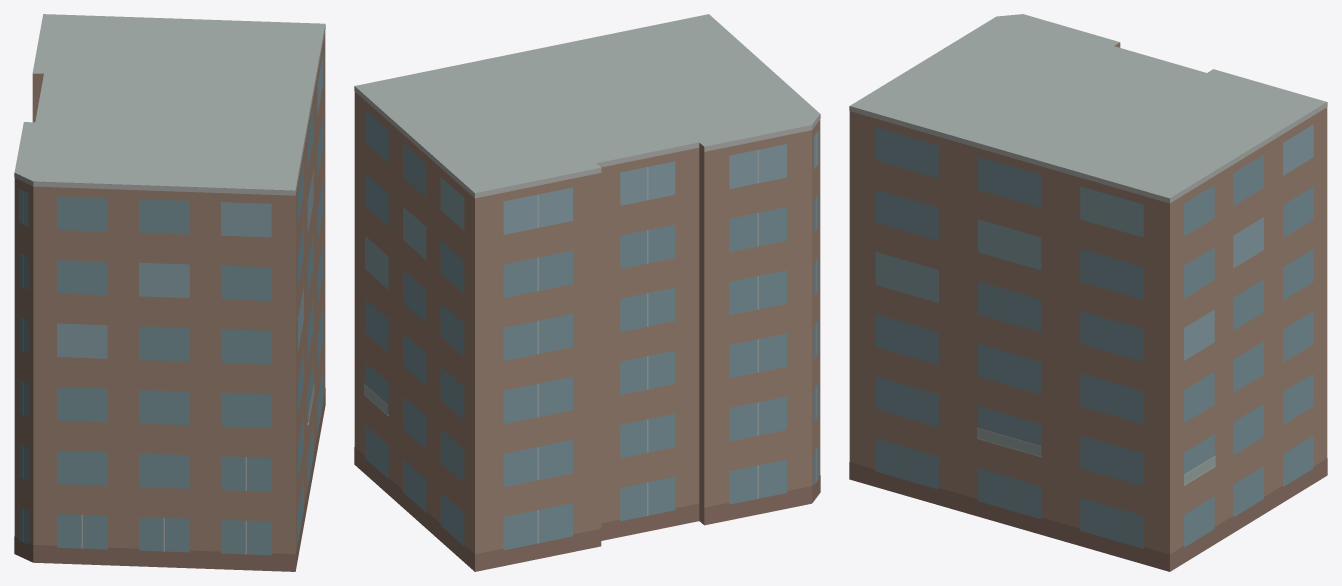
Rendered from survey-upis-32540202.glb.
The picture shows the model from 3 angles, left to right: view 1: azimuth 30°, elevation 25°; view 2: azimuth 150°, elevation 25°; view 3: azimuth 270°, elevation 25°; orthographic projection. The views are drawn at different scales.
Visible parts, largest first — view 1: survey-upis-32540202.tmp; view 2: survey-upis-32540202.tmp; view 3: survey-upis-32540202.tmp.
Boxes of the visible parts, bbox=[...] form: survey-upis-32540202.tmp: bbox=[14, 14, 325, 571]; survey-upis-32540202.tmp: bbox=[354, 14, 820, 571]; survey-upis-32540202.tmp: bbox=[849, 14, 1327, 571].
Size of the model in its own units: 19.18 by 18.1 by 21.
